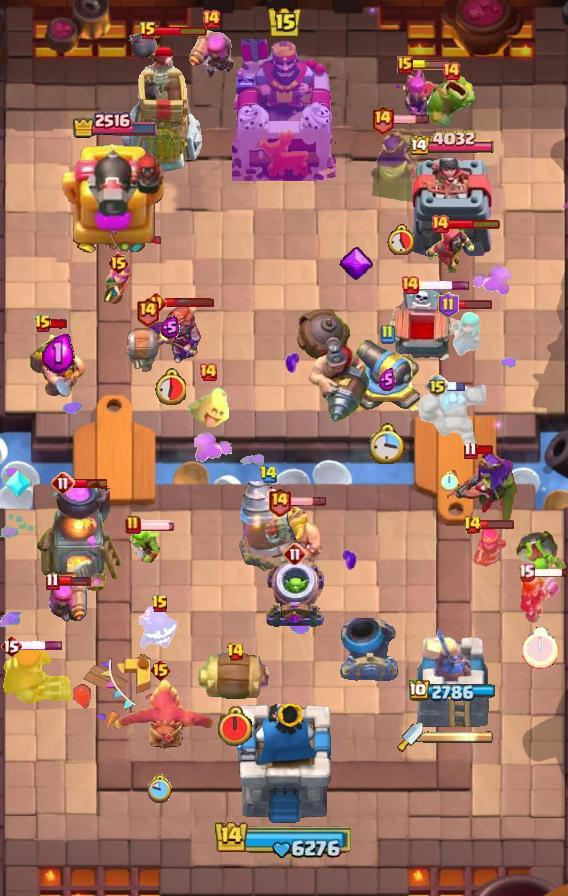archer: (469, 527, 507, 571), (103, 263, 133, 307)
archer-evolution: (389, 68, 443, 123)
bar: (448, 218, 501, 230), (155, 25, 208, 37), (11, 640, 64, 651), (418, 280, 471, 291), (165, 297, 215, 308), (138, 519, 176, 531), (73, 477, 109, 489), (290, 496, 327, 507), (456, 299, 493, 310), (393, 114, 430, 125), (58, 575, 91, 587), (532, 567, 568, 578), (479, 519, 515, 530), (411, 60, 447, 70), (476, 444, 495, 456), (447, 380, 466, 392), (50, 318, 69, 330)
bar-level: (267, 486, 292, 517), (135, 296, 160, 327), (370, 104, 395, 135), (283, 542, 307, 566), (51, 471, 75, 495), (425, 374, 449, 398), (149, 658, 172, 682), (107, 251, 130, 275), (438, 292, 459, 318), (0, 634, 22, 658), (146, 292, 167, 313), (198, 362, 218, 382), (400, 275, 420, 295), (430, 214, 450, 234), (441, 61, 461, 81), (201, 9, 221, 29), (226, 642, 245, 662), (463, 515, 482, 535), (259, 465, 278, 484), (151, 594, 169, 614), (34, 314, 52, 334), (139, 21, 157, 41), (518, 563, 535, 582), (125, 515, 141, 535), (379, 324, 395, 344), (397, 56, 413, 74), (45, 572, 60, 591), (463, 441, 478, 460)
barbarian-barrel: (197, 653, 273, 703)
cannoneer-tower: (60, 138, 168, 256)
clock: (216, 706, 254, 748), (368, 423, 406, 464), (522, 627, 559, 669), (154, 368, 186, 405), (387, 224, 414, 255), (148, 774, 173, 803), (441, 471, 459, 491)
dagger-duchess-tower: (414, 623, 492, 731)
dagger-duchess-tower-bar: (423, 730, 493, 744)
electro-spirit: (139, 606, 181, 652)
elite-barbarian: (265, 504, 323, 564)
elixir: (42, 332, 75, 373), (160, 316, 180, 339), (378, 368, 396, 391)
evolution-symbol: (338, 246, 373, 282)
firecracker: (187, 28, 236, 80), (42, 577, 88, 627)
goblin: (128, 521, 161, 564)
goblin-ball: (514, 529, 568, 577)
goblin-brawler: (427, 74, 475, 126)
golemite: (414, 383, 486, 453)
heal-spirit: (186, 386, 230, 430)
hunter: (0, 646, 74, 708)
ice-spirit-evolution-symbol: (5, 468, 33, 500)
king-tower: (232, 39, 336, 181), (235, 703, 333, 826)
king-tower-bar: (214, 819, 354, 859)
miner: (27, 327, 89, 399)
mortar: (340, 617, 400, 681)
mortar-evolution: (263, 560, 327, 630)
queen-tower: (408, 158, 499, 256)
rascal-girl: (440, 310, 484, 358)
tower-bar: (71, 110, 158, 139), (410, 130, 497, 158), (409, 680, 498, 703)
valkyrie: (519, 573, 561, 623)
valkyrie-evolution: (138, 302, 202, 366)
wall-breaker: (123, 328, 171, 372)
wizard: (426, 225, 476, 277)
